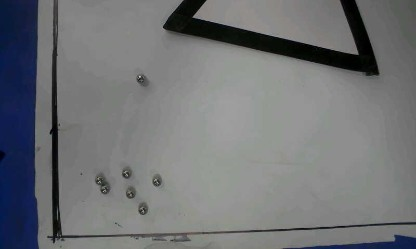ironball: (135, 73, 146, 84), (137, 203, 147, 215), (94, 174, 104, 185), (125, 189, 135, 199), (99, 184, 109, 194), (152, 177, 161, 187), (121, 169, 131, 178)
